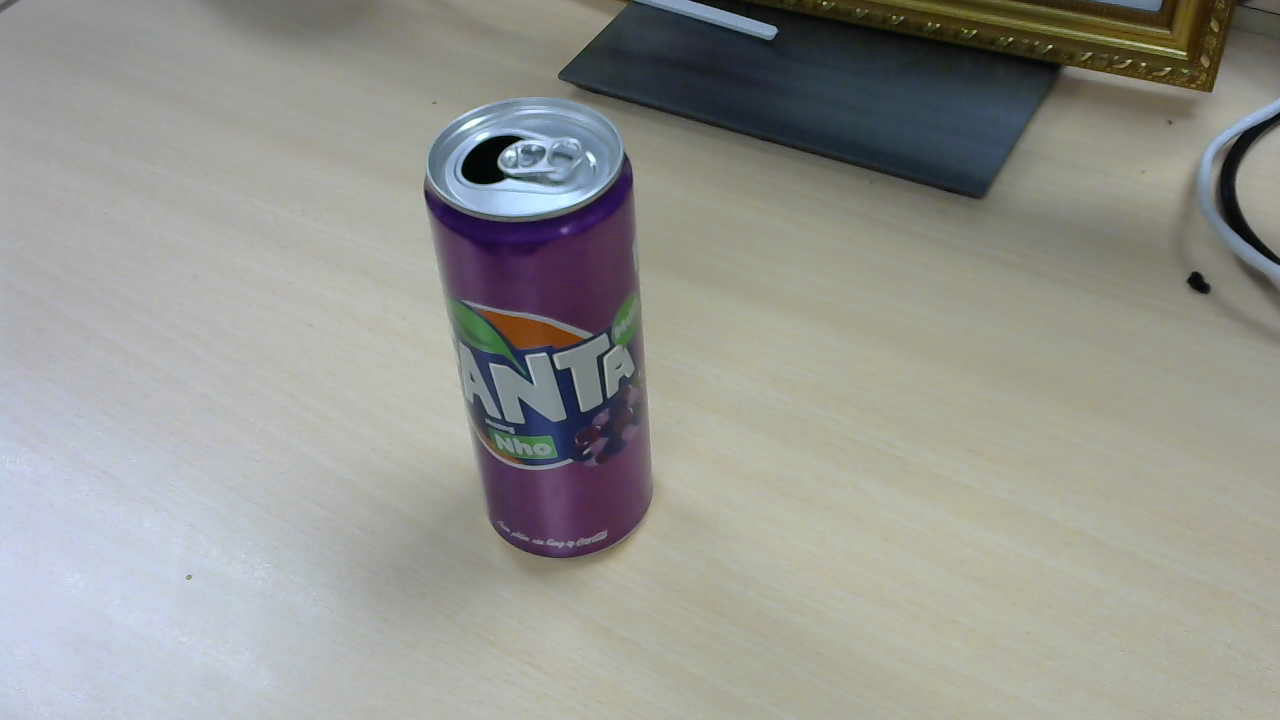Fanta: (430, 106, 666, 569)
